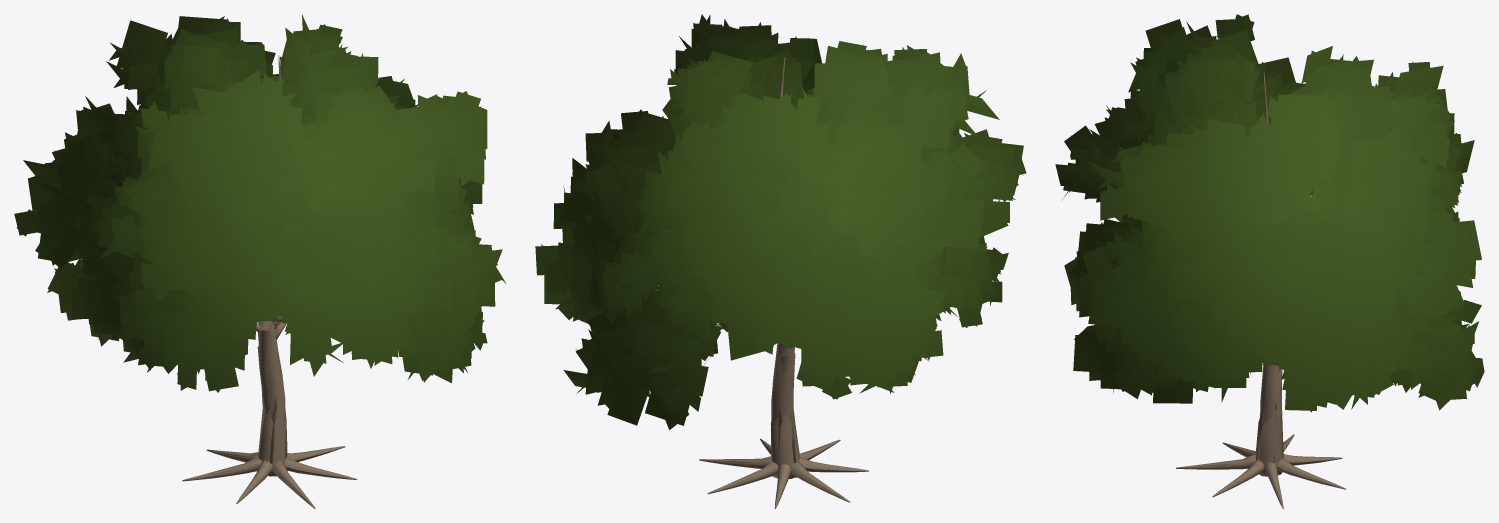
The model's file is trees.glb.
3 renders of one model, left to right at view 1: azimuth 30°, elevation 25°; view 2: azimuth 150°, elevation 25°; view 3: azimuth 270°, elevation 25°, orthographic. The views are drawn at different scales.
Visible parts, largest first — view 1: tree_leaf_oak_near, tree_leaf_willow_near, tree_leaf_oak_far, tree_leaf_birch_near, tree_leaf_willow_far, tree_leaf_birch_far, tree_bark_oak_near, tree_bark_willow_near, tree_bark_oak_far, tree_bark_birch_near; view 2: tree_leaf_oak_near, tree_leaf_willow_near, tree_leaf_oak_far, tree_leaf_birch_near, tree_leaf_willow_far, tree_leaf_birch_far, tree_bark_oak_near, tree_bark_willow_near, tree_bark_birch_near, tree_bark_oak_far; view 3: tree_leaf_oak_near, tree_leaf_willow_near, tree_leaf_oak_far, tree_leaf_birch_near, tree_leaf_willow_far, tree_leaf_birch_far, tree_bark_oak_near, tree_bark_willow_near, tree_bark_birch_near.
Boxes of the visible parts, <box> form: tree_leaf_oak_near: <box>14,16,502,309</box>; tree_leaf_willow_near: <box>47,105,487,392</box>; tree_leaf_oak_far: <box>23,16,506,311</box>; tree_leaf_birch_near: <box>128,24,396,221</box>; tree_leaf_willow_far: <box>71,99,481,383</box>; tree_leaf_birch_far: <box>125,14,397,225</box>; tree_bark_oak_near: <box>182,276,430,508</box>; tree_bark_willow_near: <box>211,316,345,491</box>; tree_bark_oak_far: <box>202,321,315,508</box>; tree_bark_birch_near: <box>203,55,356,503</box>; tree_leaf_oak_near: <box>562,14,1026,336</box>; tree_leaf_willow_near: <box>535,141,1008,417</box>; tree_leaf_oak_far: <box>579,15,1023,343</box>; tree_leaf_birch_near: <box>642,41,956,251</box>; tree_leaf_willow_far: <box>544,136,1000,429</box>; tree_leaf_birch_far: <box>635,48,943,251</box>; tree_bark_oak_near: <box>655,285,856,508</box>; tree_bark_willow_near: <box>699,323,838,494</box>; tree_bark_birch_near: <box>721,57,868,494</box>; tree_bark_oak_far: <box>771,399,849,508</box>; tree_leaf_oak_near: <box>1063,14,1475,370</box>; tree_leaf_willow_near: <box>1070,150,1484,412</box>; tree_leaf_oak_far: <box>1055,19,1481,375</box>; tree_leaf_birch_near: <box>1141,39,1431,291</box>; tree_leaf_willow_far: <box>1064,157,1483,410</box>; tree_leaf_birch_far: <box>1151,29,1430,296</box>; tree_bark_oak_near: <box>1176,191,1415,490</box>; tree_bark_willow_near: <box>1197,369,1345,508</box>; tree_bark_birch_near: <box>1212,73,1328,497</box>.
Bounding box in the file's own units: 18.62 × 18.51 × 17.97.
